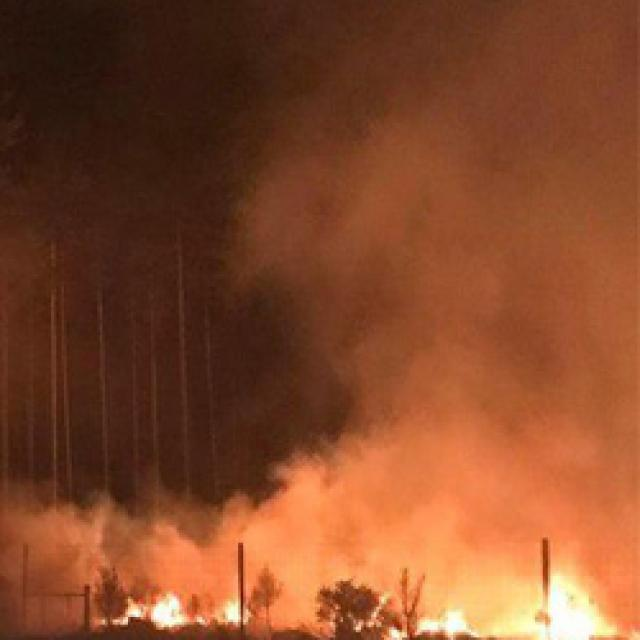Fire: (532, 575, 617, 640), (370, 594, 475, 640), (102, 596, 243, 626)
Smoke: (230, 0, 639, 573), (0, 474, 233, 595), (237, 576, 333, 640), (0, 593, 102, 640), (471, 576, 530, 640)
